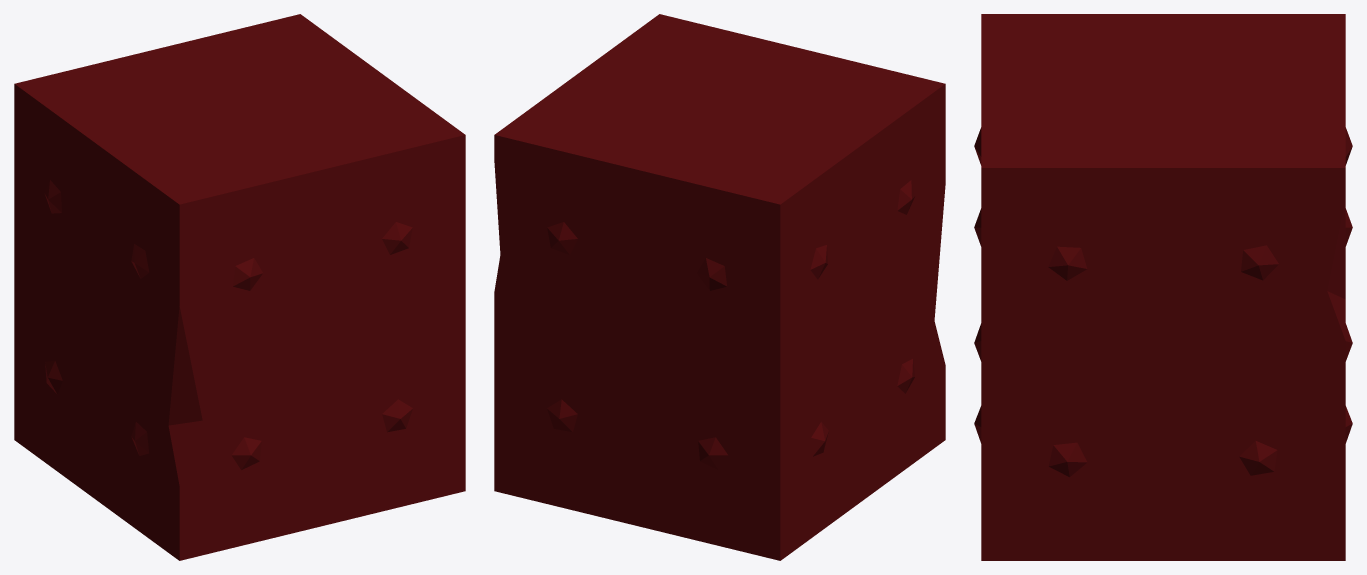
Rendered from SW_ENV_PillarGirderBox.fbx.
3 views of the same model, side by side, from view 1: azimuth 30°, elevation 25°; view 2: azimuth 150°, elevation 25°; view 3: azimuth 270°, elevation 25° (orthographic). The views are drawn at different scales.
Parts seen in each view (by area): view 1: SW_ENV_PillarGirderBox; view 2: SW_ENV_PillarGirderBox; view 3: SW_ENV_PillarGirderBox.
Part boxes in pixels (x1,y1,x2,y2): SW_ENV_PillarGirderBox: [14, 14, 465, 560]; SW_ENV_PillarGirderBox: [494, 14, 945, 560]; SW_ENV_PillarGirderBox: [974, 14, 1352, 560].
Size of the model in its own units: 43.66 by 50 by 43.66.
